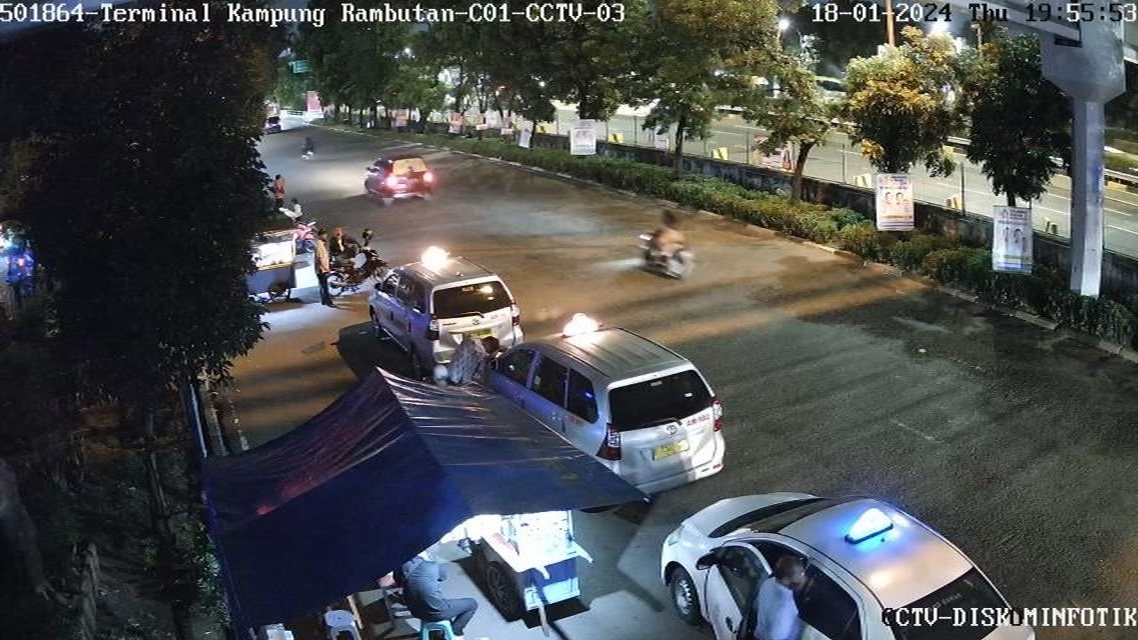Gerobak: (469, 510, 595, 617), (244, 230, 315, 308)
